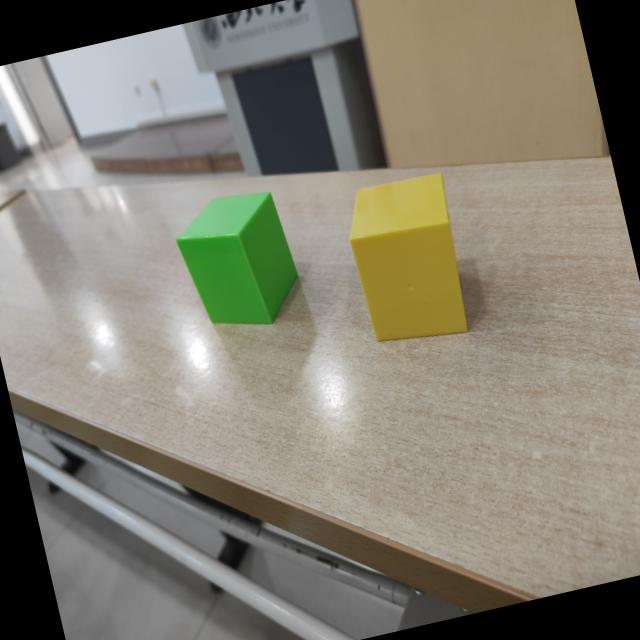green: (175, 192, 299, 326)
yellow: (348, 171, 469, 345)
